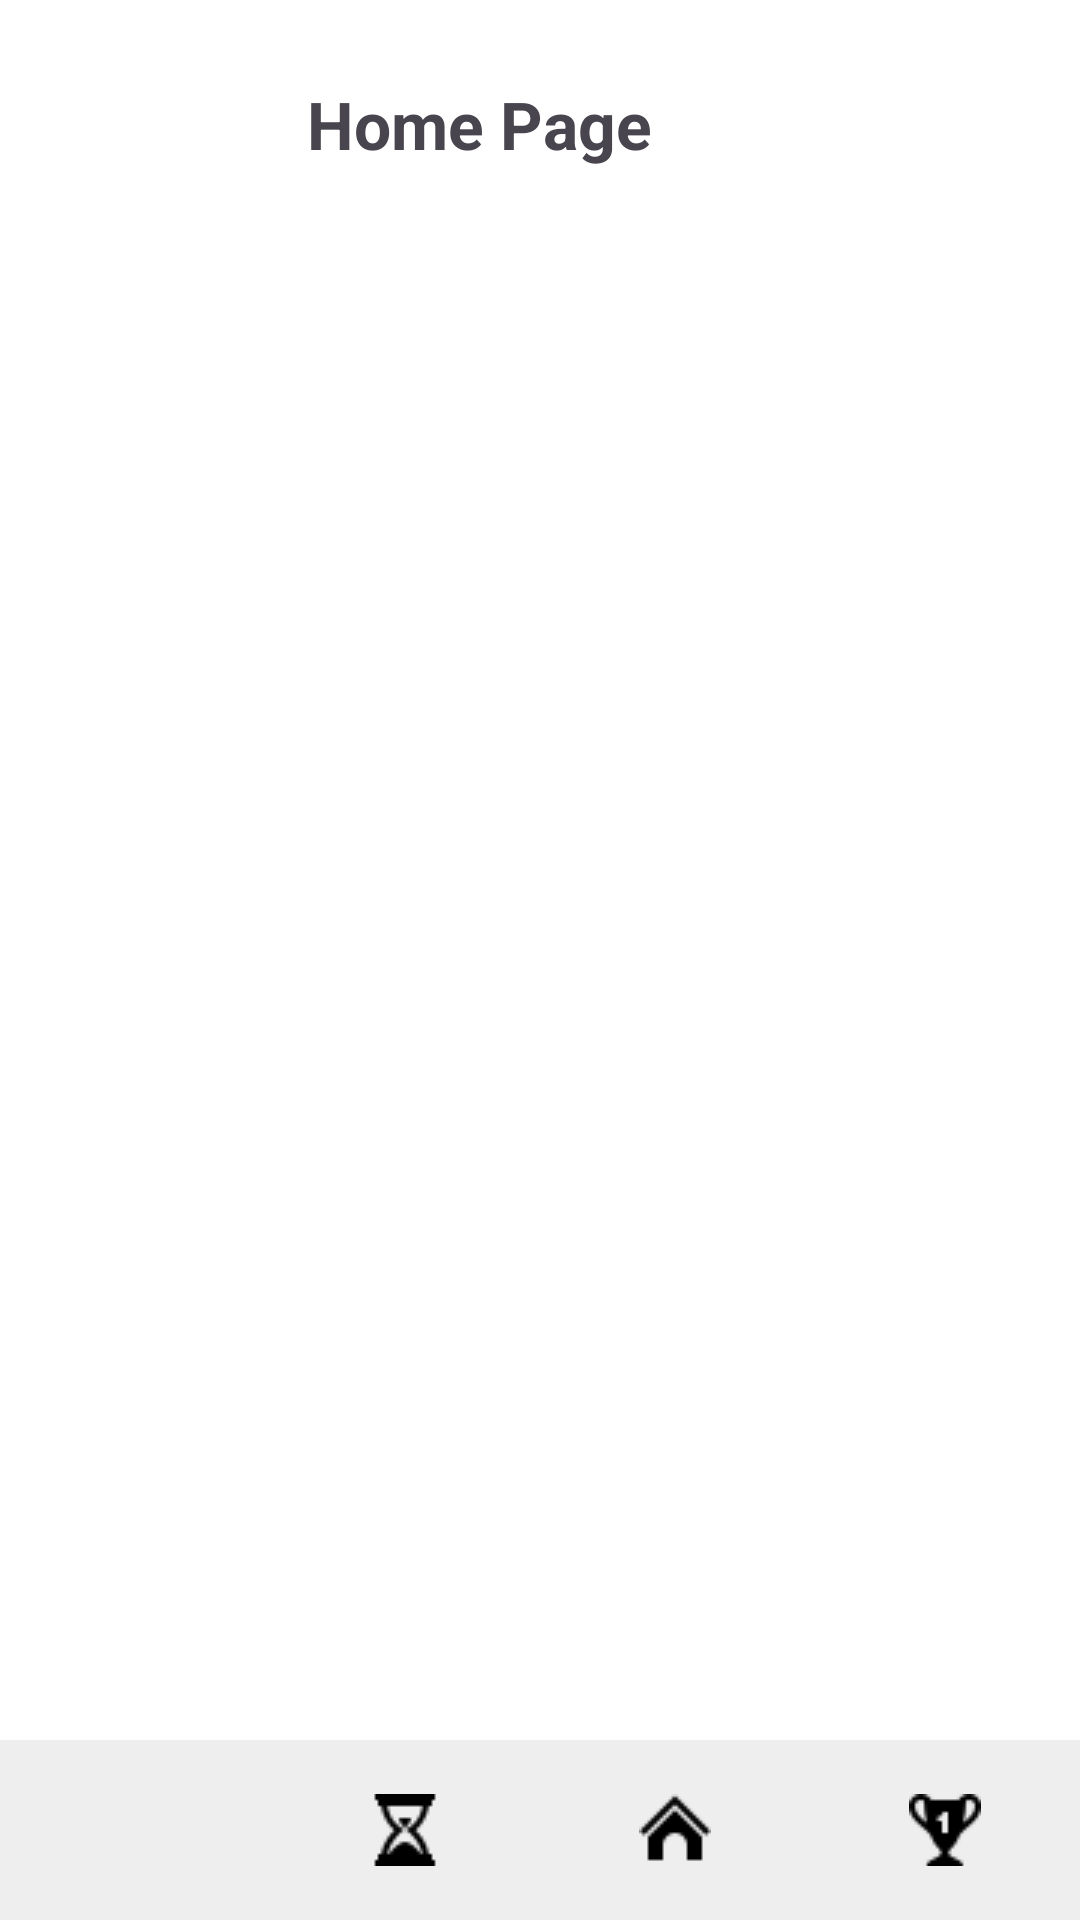

Icons on this 1080 × 1920 Android screen, each with the point to tap as (x=x, y=y):
Home: (x=675, y=1828)
